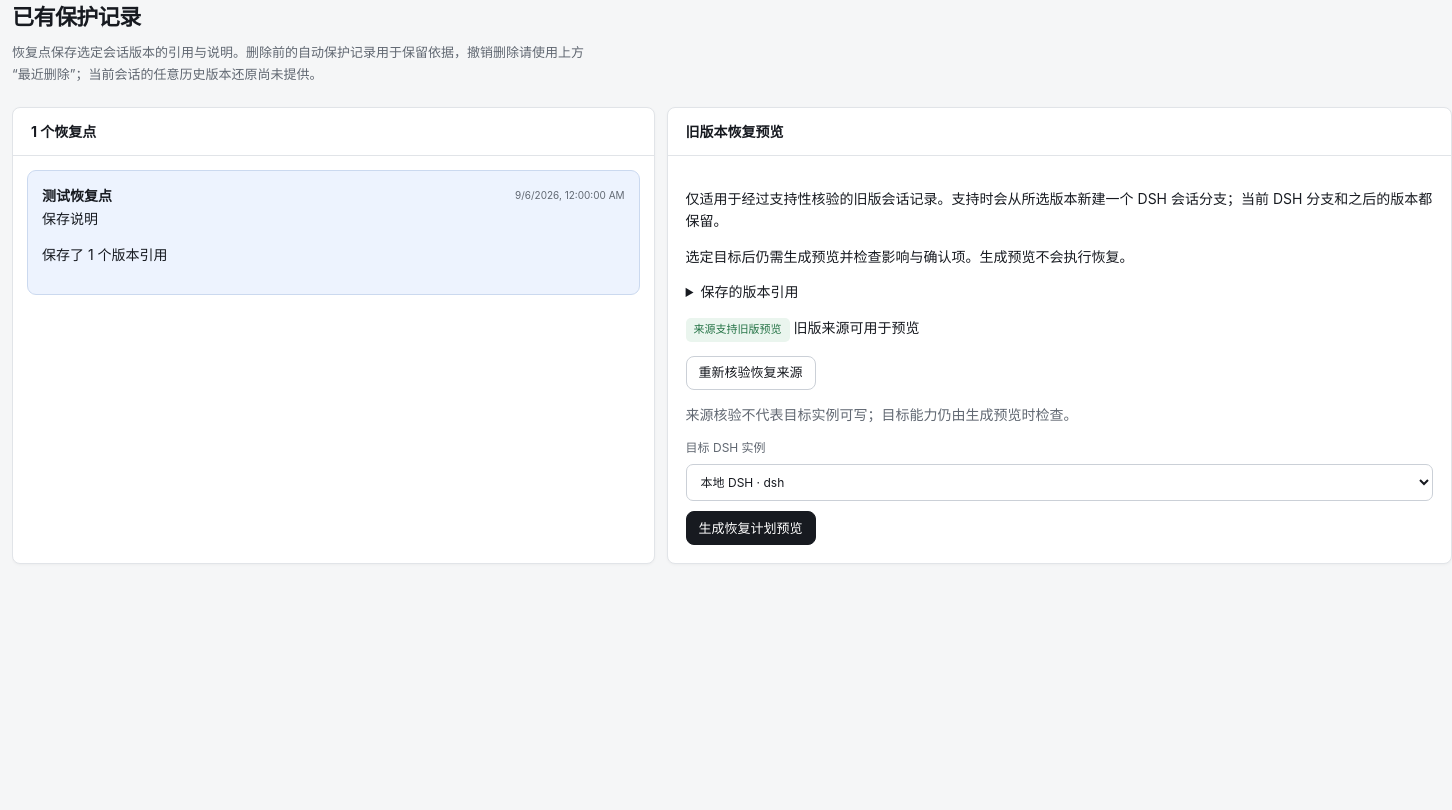
Test: recovery and storage explanations › explains saved references and restoration impact before requesting a preview
The image size is (1452, 810).
Click the button "生成恢复计划预览". click: (751, 528)
box: [686,511,816,545]
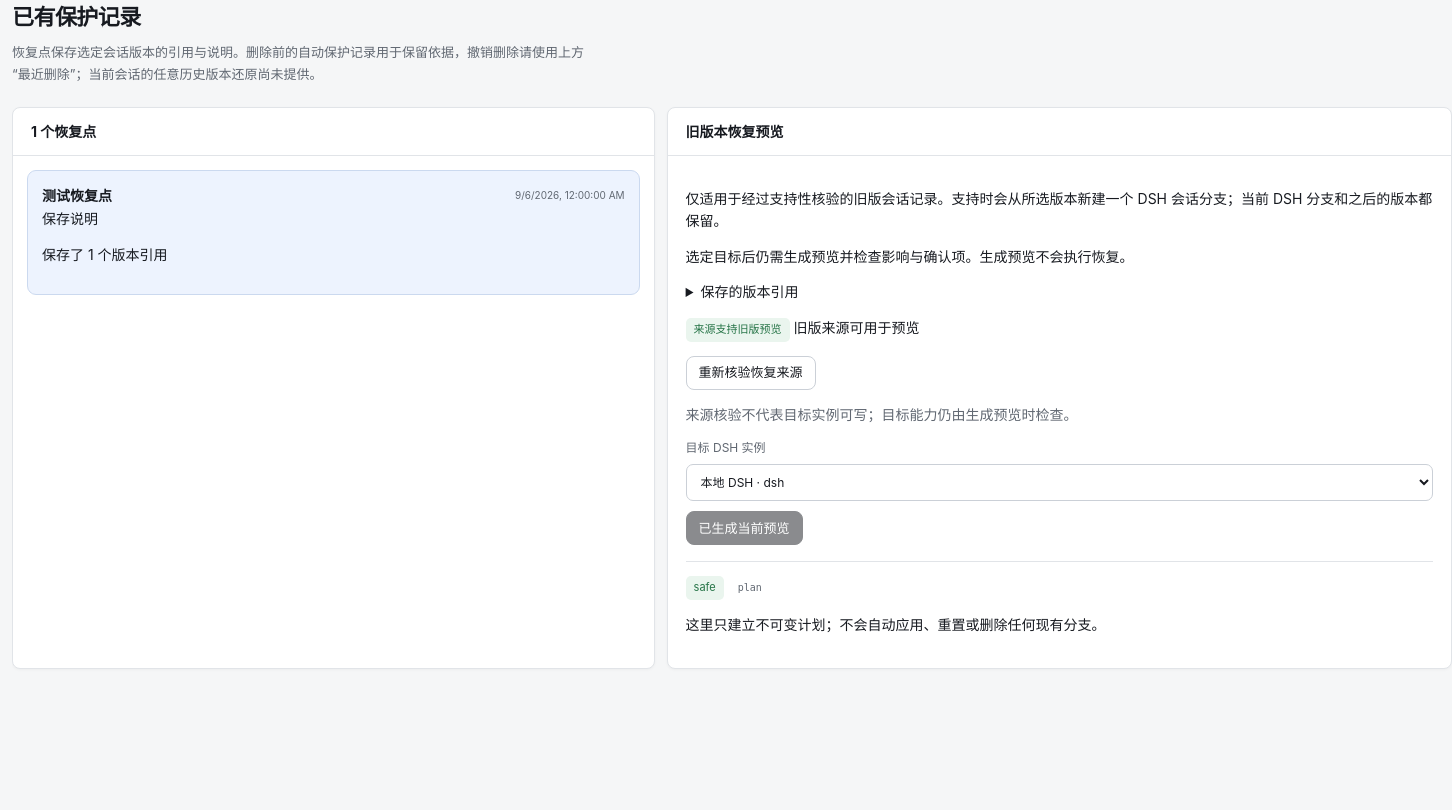
Expected: the text "不会自动应用、重置或删除" is shown, [686,616,1106,633]
